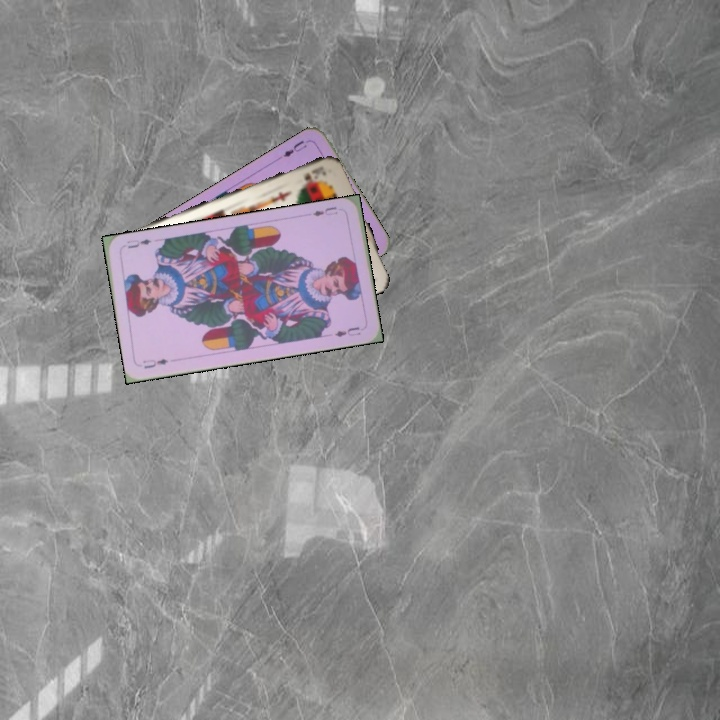EU: (275, 136, 309, 162), (309, 202, 340, 219), (139, 354, 170, 371)
SK: (297, 166, 329, 188)
